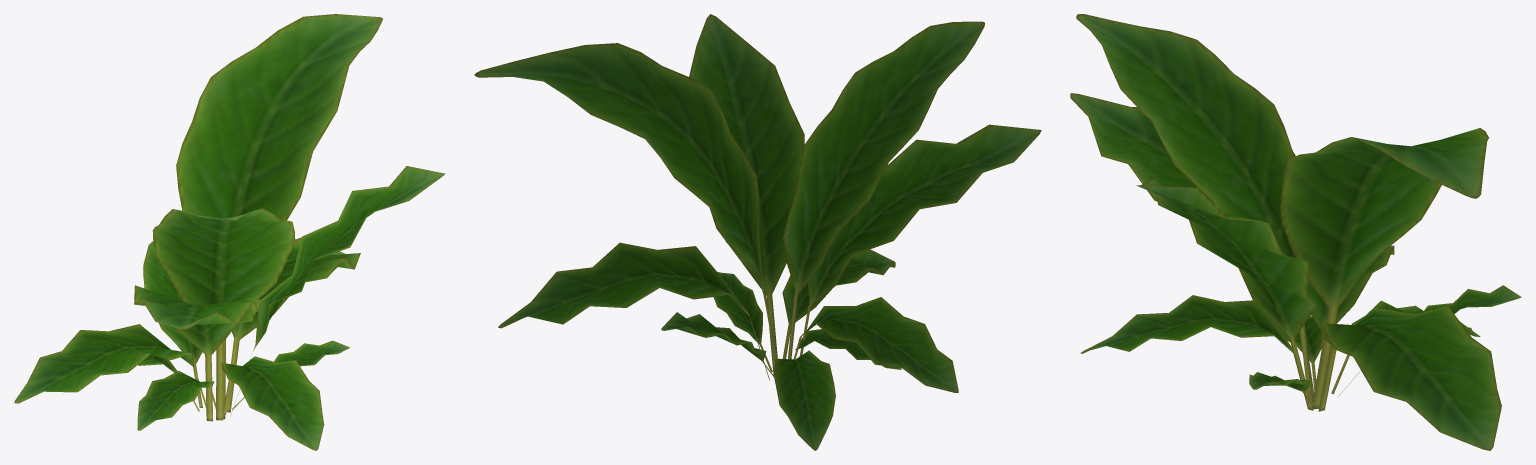
File: plante-5.glb
3 renders of one model, left to right at view 1: azimuth 30°, elevation 25°; view 2: azimuth 150°, elevation 25°; view 3: azimuth 270°, elevation 25°, orthographic. The views are drawn at different scales.
Parts seen in each view (by area): view 1: Object_5.876; view 2: Object_5.876; view 3: Object_5.876.
Boxes of the visible parts, x1,y1,x2,y2 form: Object_5.876: (14, 14, 445, 450); Object_5.876: (474, 14, 1041, 450); Object_5.876: (1070, 14, 1521, 450).
Bounding box in the file's own units: 0.7866 × 0.5556 × 0.6397.
1 material, 1 textured.
